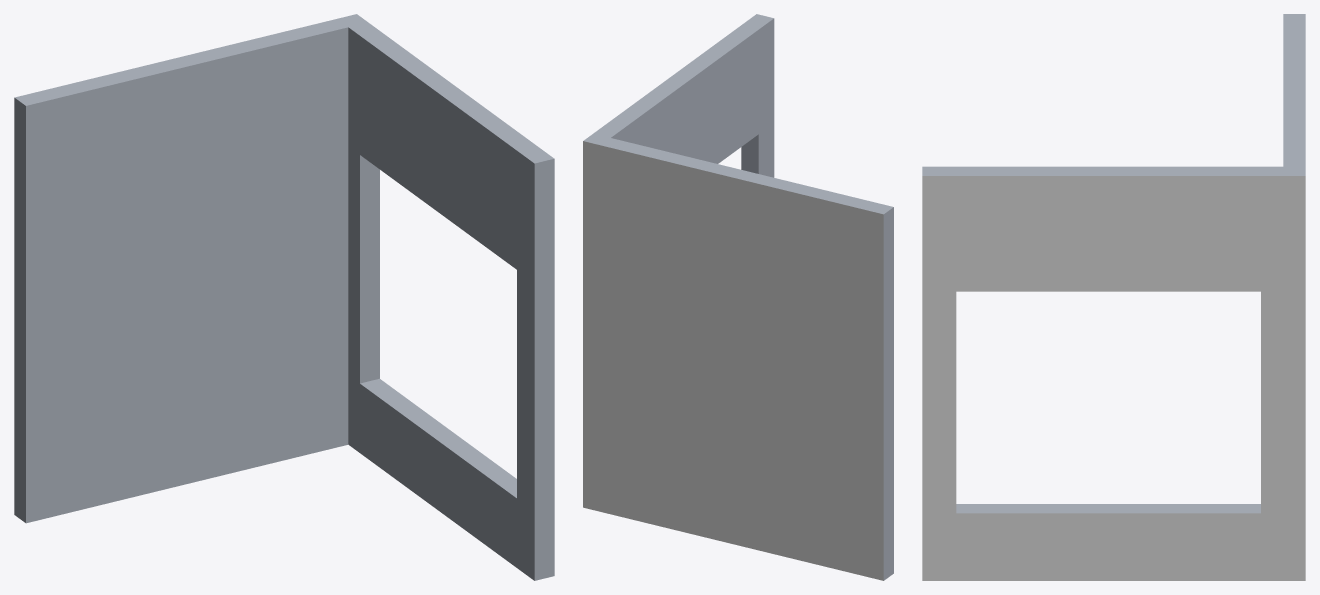
Rendered from Wall1_C5_14.fbx.
The picture shows the model from 3 angles, left to right: view 1: azimuth 30°, elevation 25°; view 2: azimuth 150°, elevation 25°; view 3: azimuth 270°, elevation 25°; orthographic projection. The views are drawn at different scales.
Parts seen in each view (by area): view 1: Wall1_C5_14; view 2: Wall1_C5_14; view 3: Wall1_C5_14.
Part boxes in pixels (bbox=[...]): Wall1_C5_14: bbox=[14, 14, 554, 580]; Wall1_C5_14: bbox=[583, 14, 893, 580]; Wall1_C5_14: bbox=[922, 14, 1305, 580].
Size of the model in its own units: 258 by 300 by 258.
